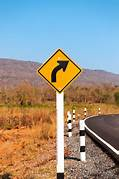right: (36, 48, 81, 93)
